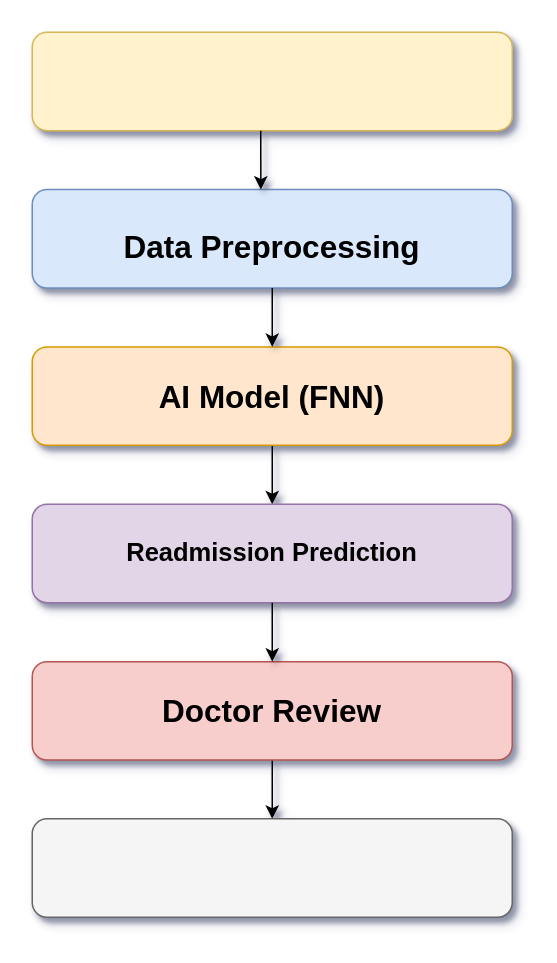
This 557x963 diagram has some shape labels left out. Here are the shapes that lost their labels. From the top down, the centre of each, then its label:
the point at 273,83: Patient Data
the point at 273,869: Final Decision
